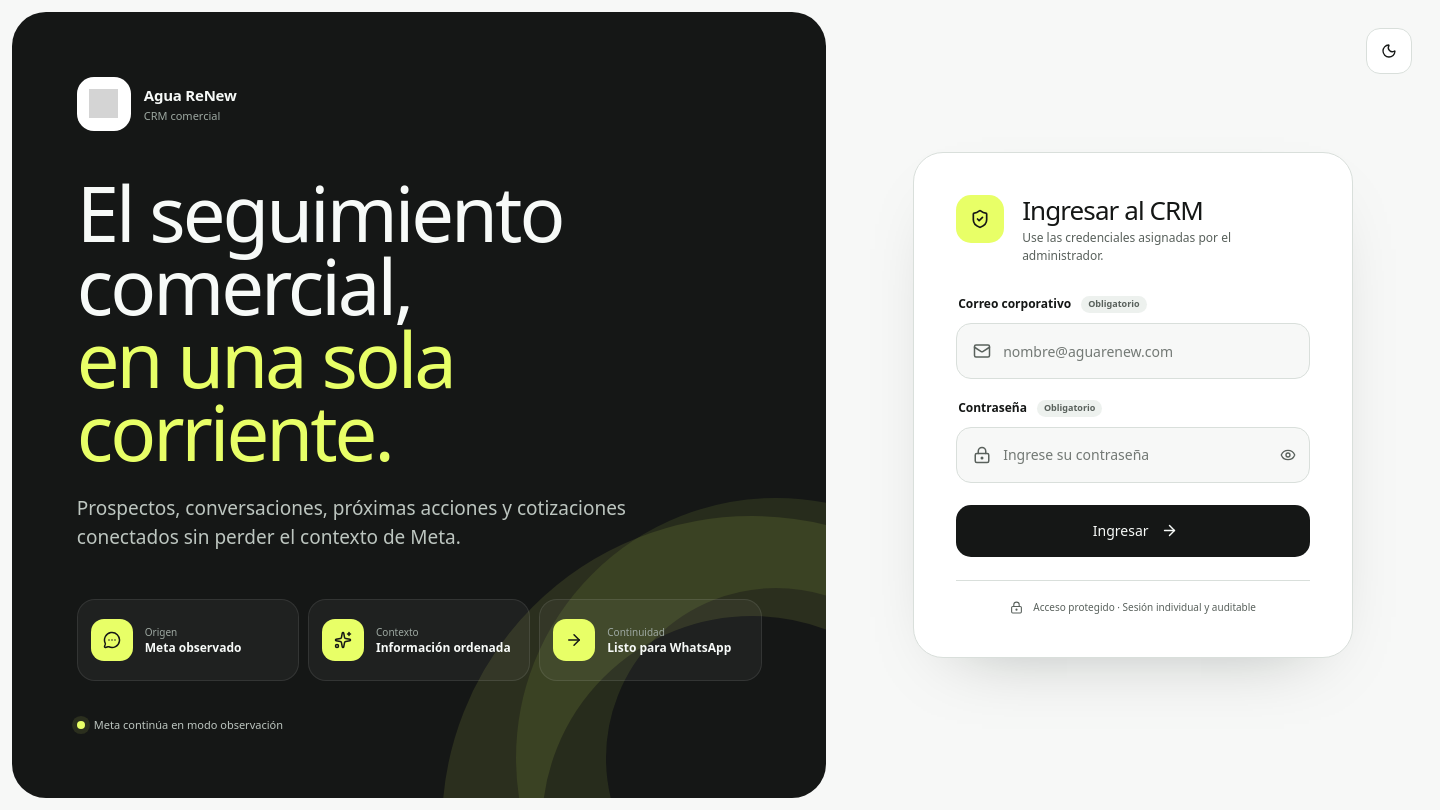
Test: Login › muestra y vuelve a ocultar la contraseña sin reemplazar su valor
In the password field labelled "Contraseña Obligatorio": (1132, 455) [1001,428,1264,482], type "Una-clave-segura-2026"
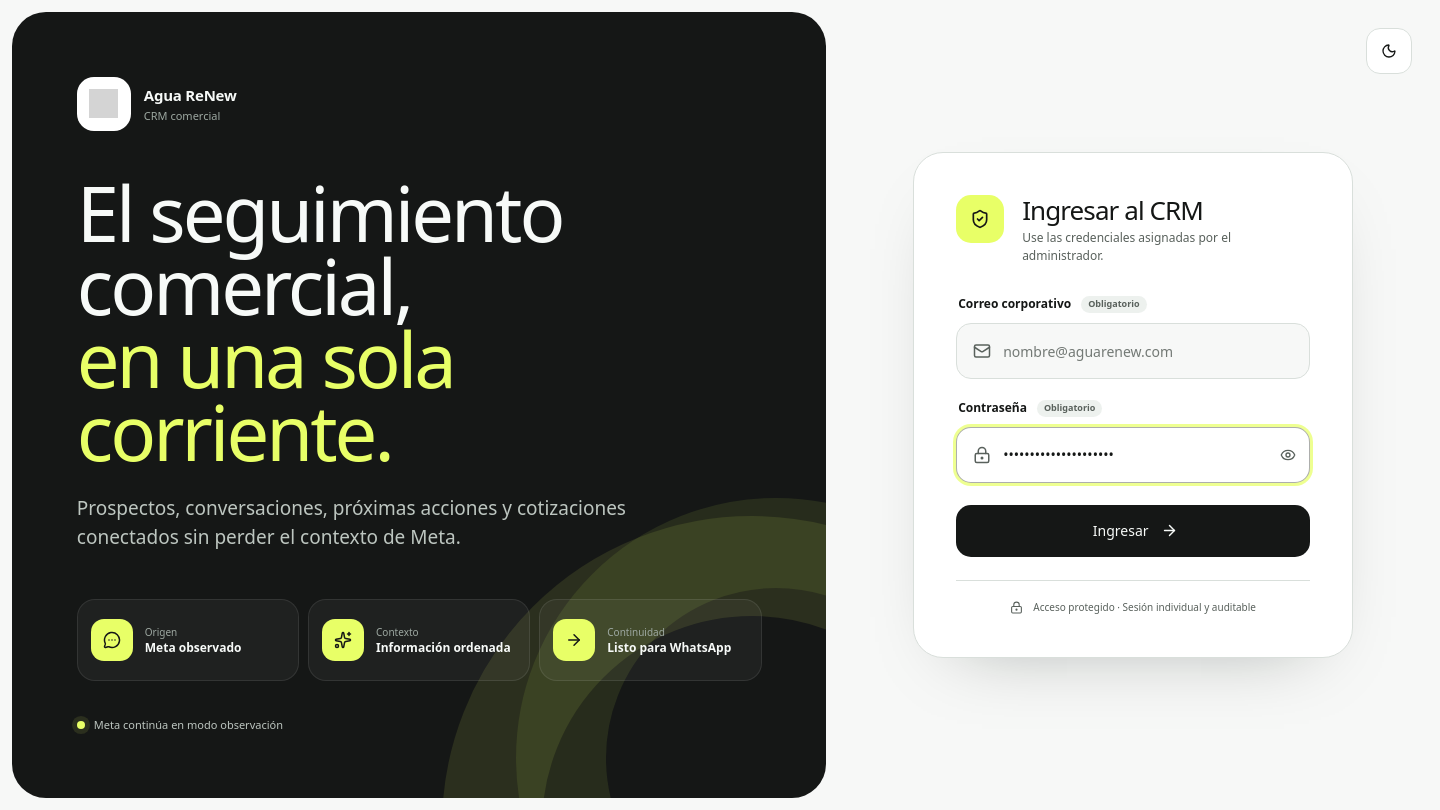
Click the button named "Mostrar contraseña": click(1288, 455) [1272,433,1304,477]
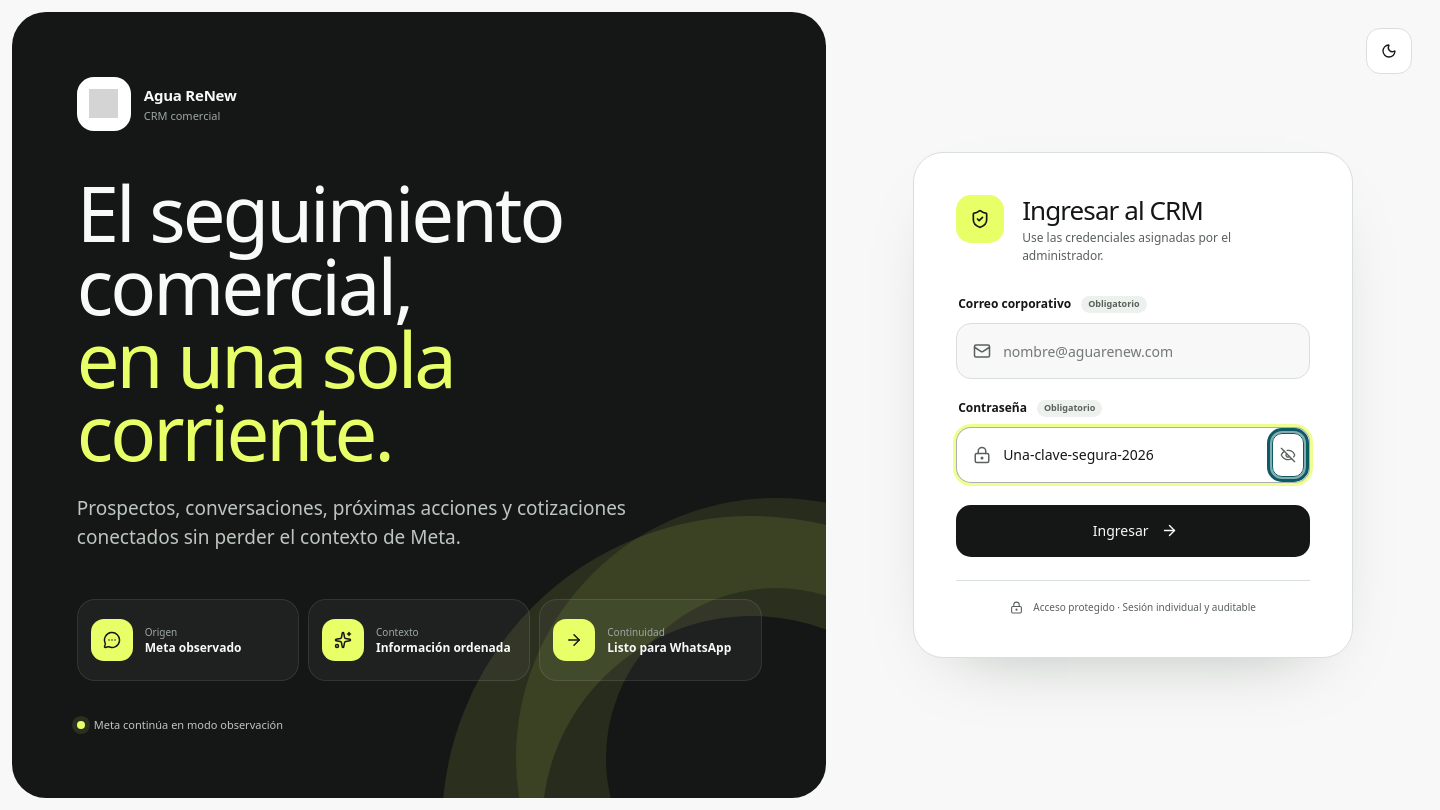
Expected: the field labelled "Contraseña Obligatorio" shows its text, [1001,428,1264,482]
Click the button named "Ocultar contraseña": click(1288, 455) [1272,433,1304,477]
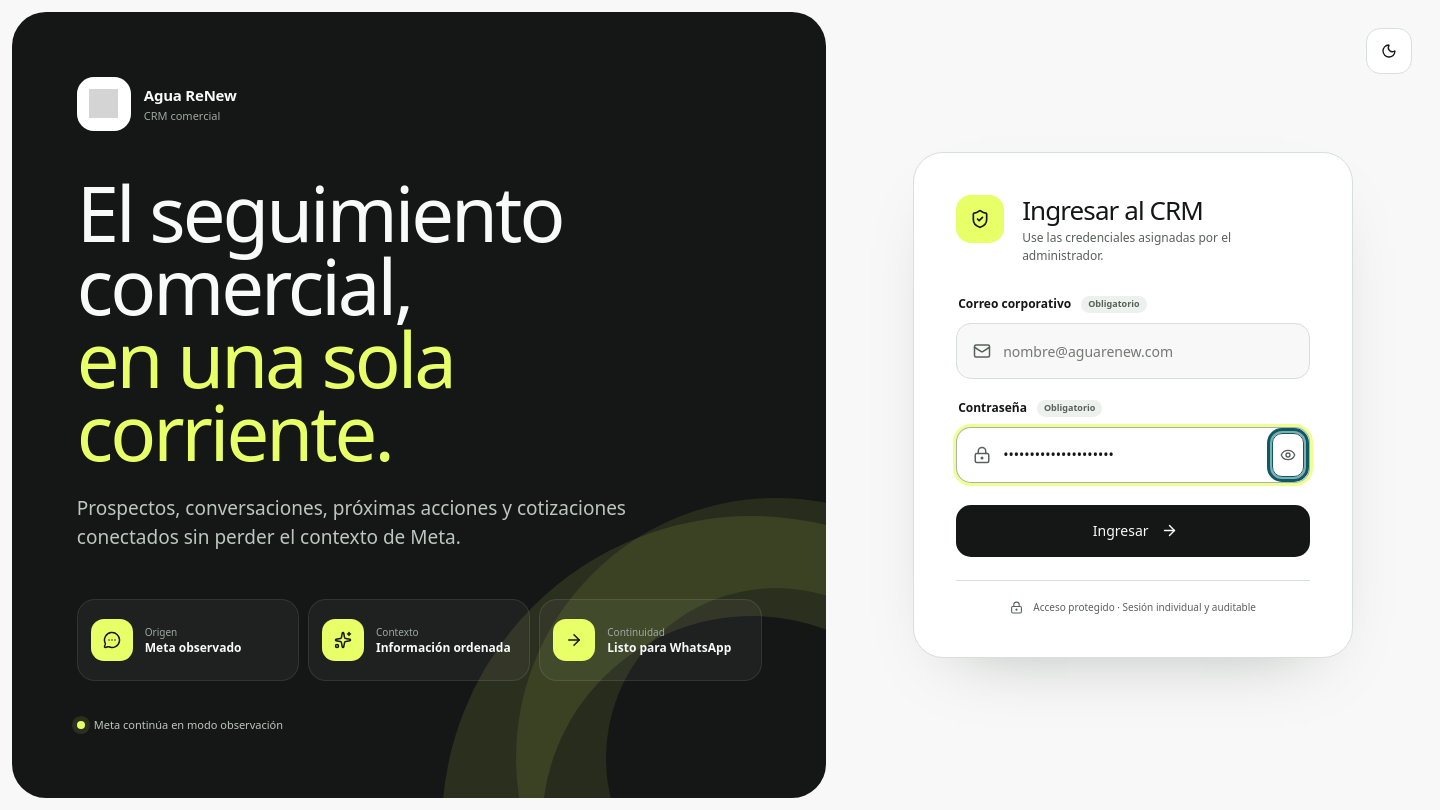
Expected: the password field labelled "Contraseña Obligatorio" hides its text, [1001,428,1264,482]
